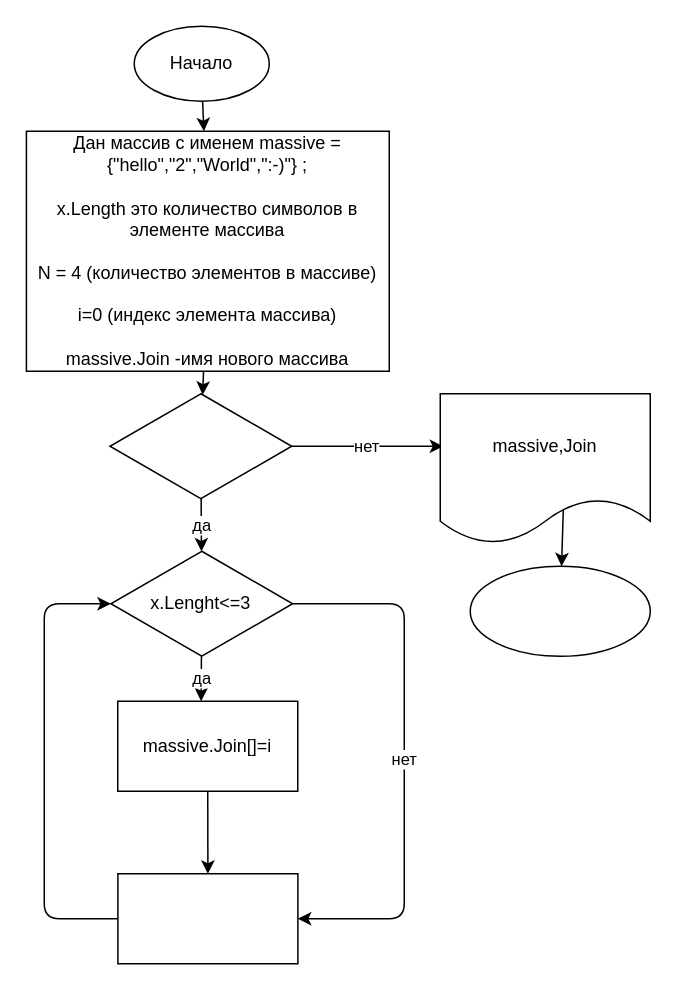
The diagram is 677 pixels wide and 990 high, and some of its shapes have lost their labels. The shapes that lost their labels are listed below. From the top down, each one's box as (x1, y1, x2, y2) in pixels, then its label:
(108, 392, 292, 499): i<=N
(469, 565, 650, 656): Конец
(116, 872, 298, 964): i=i+1
